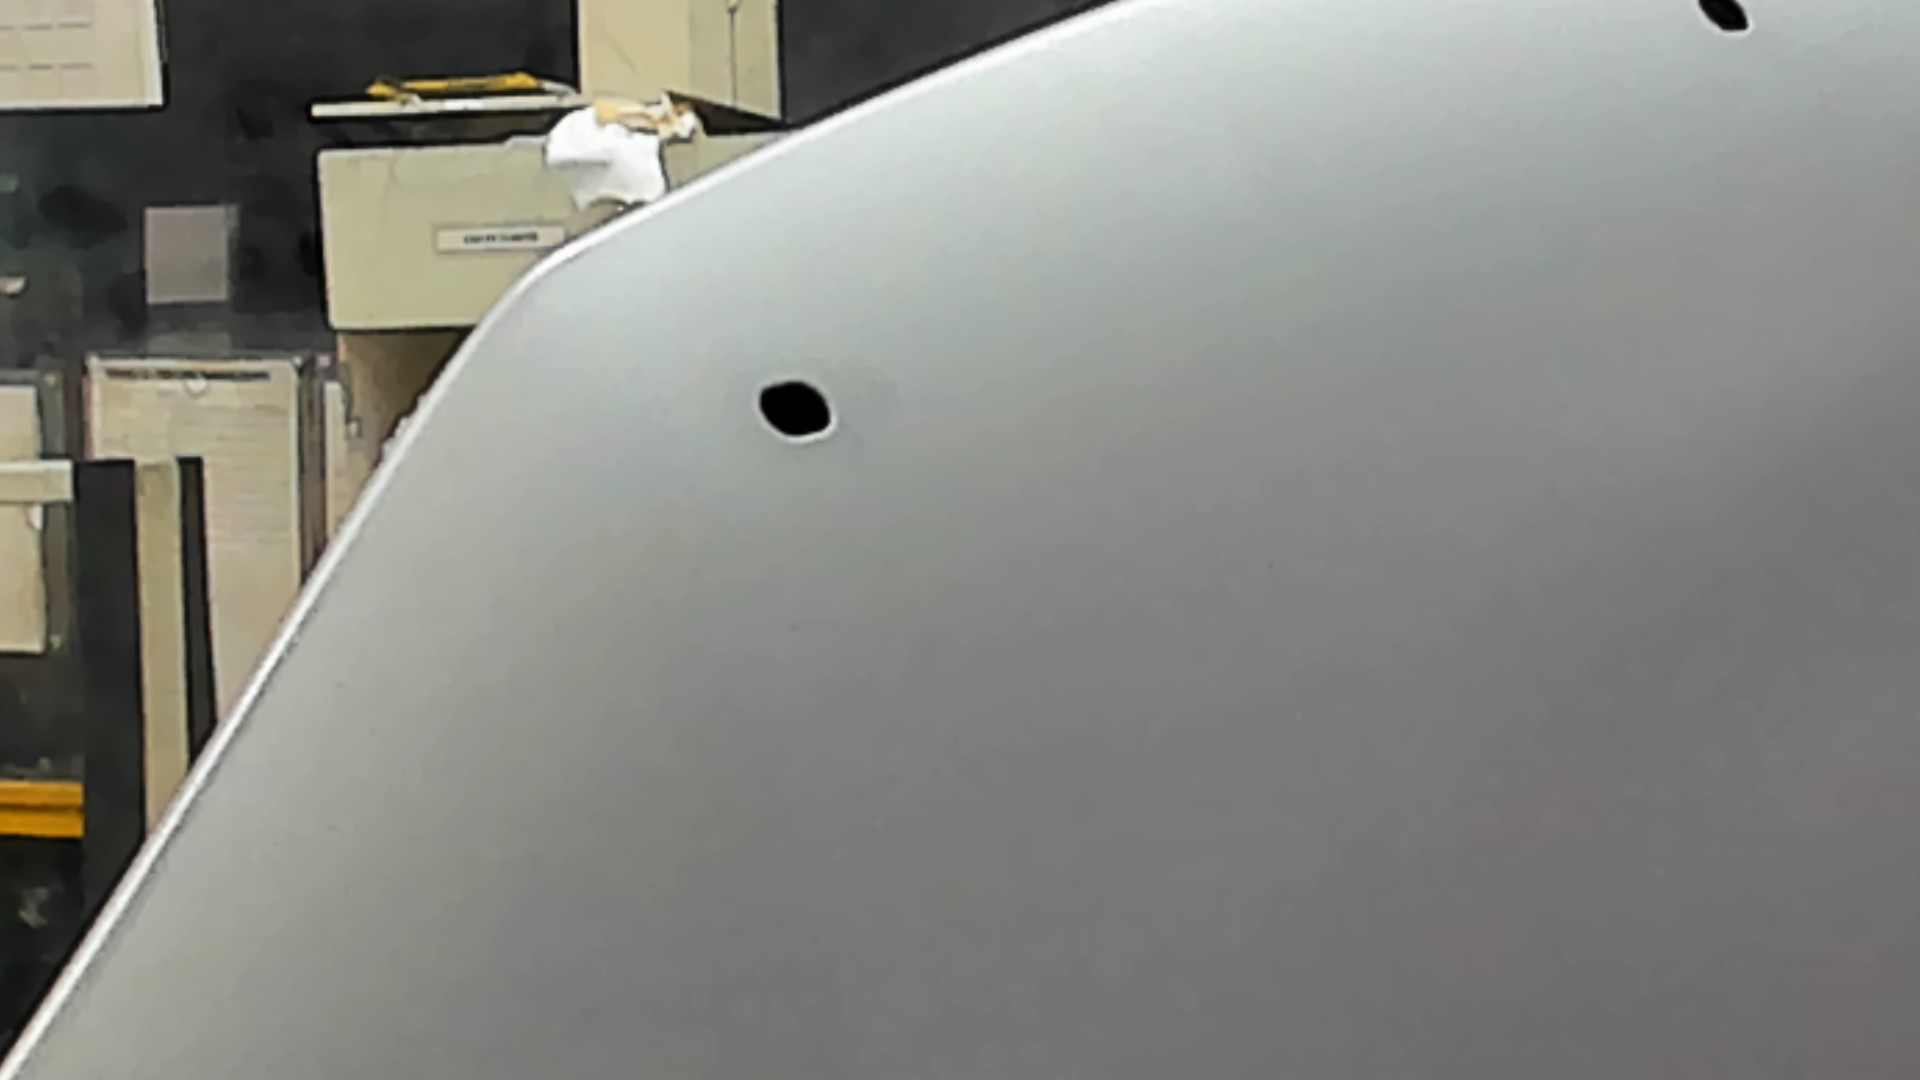Agujero: (752, 371, 844, 448), (1693, 1, 1760, 41)
